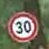limite 30: (6, 11, 39, 43)
